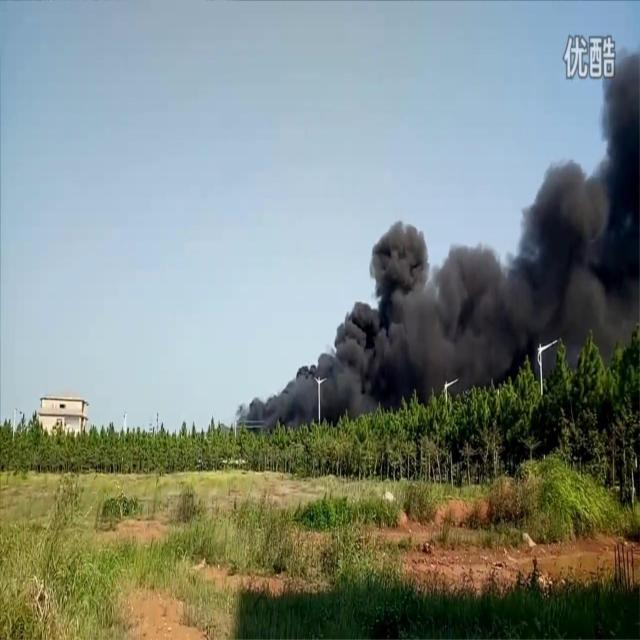Smoke: (232, 41, 640, 432)
